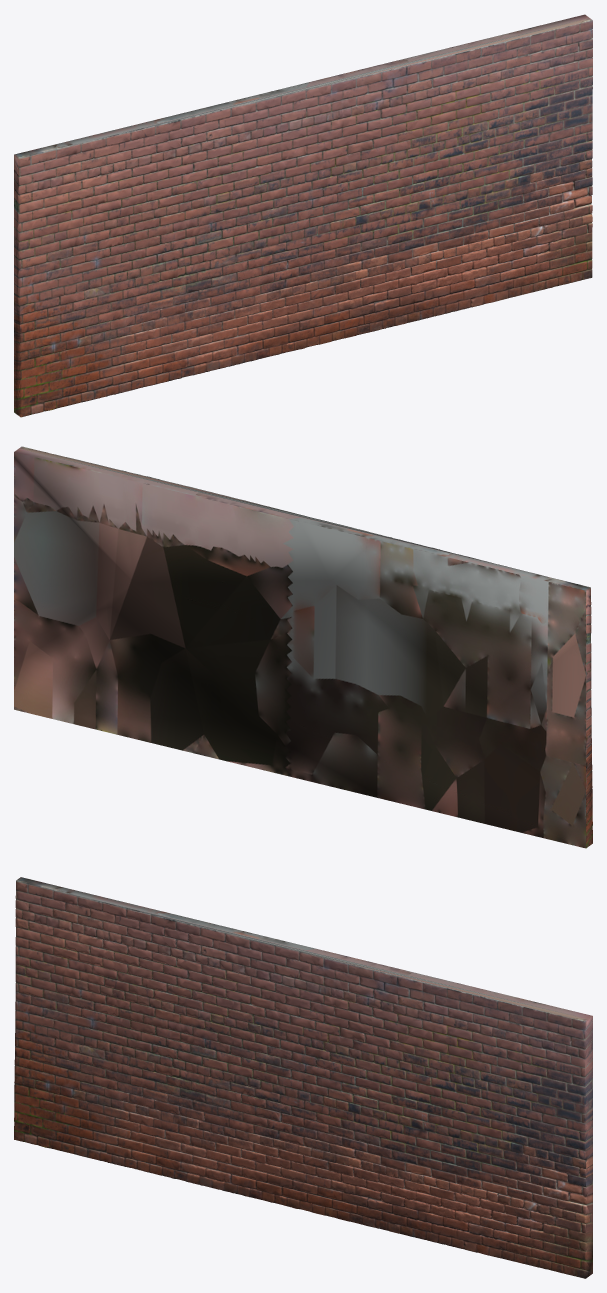
The model's file is Wall.glb.
3 views of the same model, one above another, from view 1: azimuth 30°, elevation 25°; view 2: azimuth 150°, elevation 25°; view 3: azimuth 330°, elevation 25° (orthographic).
Parts seen in each view (by area): view 1: Wall_5mtr; view 2: Wall_5mtr; view 3: Wall_5mtr.
Boxes of the visible parts, x1,y1,x2,y2 form: Wall_5mtr: (14, 14, 592, 417); Wall_5mtr: (14, 446, 592, 848); Wall_5mtr: (14, 877, 592, 1278).
Bounding box in the file's own units: 5 × 2.16 × 0.1317.
Materials: 1 (1 with a texture image).
